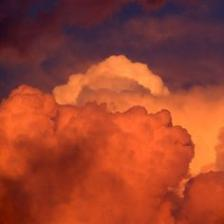orange: (0, 85, 195, 224)
